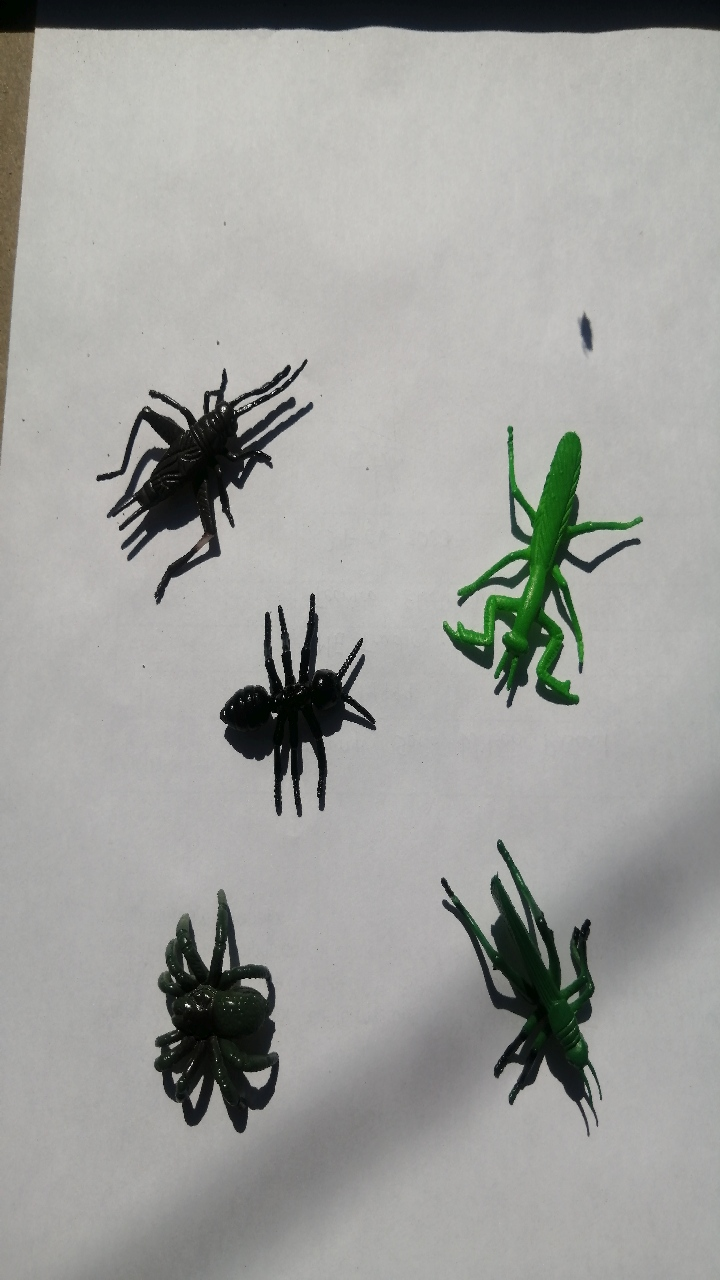intruso: (49, 299, 355, 619), (417, 420, 663, 726), (414, 815, 649, 1134), (172, 575, 417, 842), (103, 879, 324, 1148)
